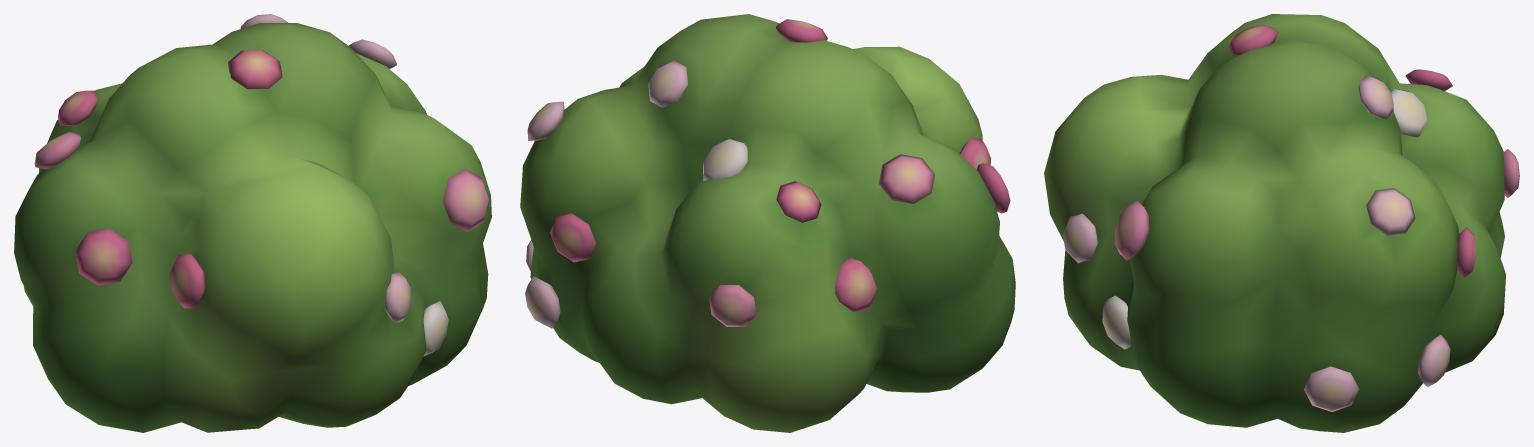
Rendered from bush-a-spring.glb.
The picture shows the model from 3 angles, left to right: view 1: azimuth 30°, elevation 25°; view 2: azimuth 150°, elevation 25°; view 3: azimuth 270°, elevation 25°; orthographic projection. The views are drawn at different scales.
Visible parts, largest first — view 1: bush-a-spring; view 2: bush-a-spring; view 3: bush-a-spring.
Boxes of the visible parts, <box> form: bush-a-spring: <box>14,14,491,432</box>; bush-a-spring: <box>520,14,1015,432</box>; bush-a-spring: <box>1044,14,1519,432</box>.
Size of the model in its own units: 1.03 by 0.8084 by 0.993.
